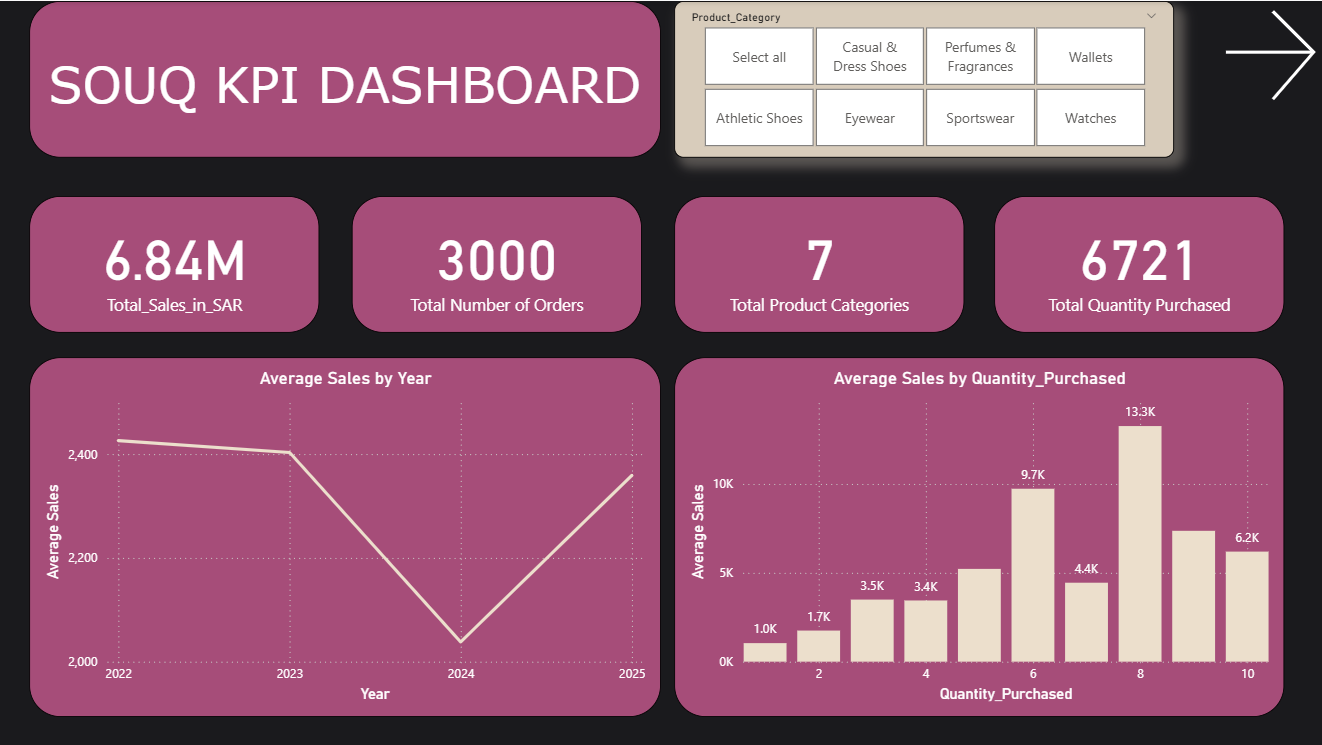

The page's visual inventory and layout, read from the dashboard file:
{"tool":"powerbi","page":{"name":"KPI Summary","canvas":[1280,720],"ordinal":0},"visuals":[{"type":"card","fields":{"Values":["_Measures.Total Number of Orders"]},"box":[341.4,188.7,280,131.8],"z":0},{"type":"card","fields":{"Values":["Sum(Orders.Total_Sales_in_SAR)"]},"box":[29.9,188.7,280,131.8],"z":1},{"type":"card","fields":{"Values":["_Measures.Total Product Categories"]},"box":[652.9,188.7,280,131.8],"z":2},{"type":"card","fields":{"Values":["_Measures.Total Quantity Purchased"]},"box":[961.4,188.7,280,131.8],"z":3},{"type":"textbox","box":[29.9,0,609.5,151.2],"z":4},{"type":"lineChart","fields":{"Category":["Orders.Order_Date.Variation.Date Hierarchy.Year","Orders.Order_Date.Variation.Date Hierarchy.Month","Orders.Order_Weekday"],"Y":["_Measures.Average Sales"]},"box":[29.9,344.4,609.5,347.4],"z":5},{"type":"columnChart","fields":{"Category":["Orders.Quantity_Purchased"],"Y":["_Measures.Average Sales"]},"box":[652.9,344.4,588.5,347.4],"z":6},{"type":"slicer","fields":{"Values":["Products.Product_Category"]},"box":[652.9,0,482.2,151.2],"z":7},{"type":"actionButton","box":[1175.5,0,104.8,104.8],"z":8}]}

Visuals, with their boxes in screenshot pixels (x1, y1, x2, y2), scaled from the page's 1280x720 canvas onto the 1322x745 screenshot:
card - _Measures.Total Number of Orders: [x1=353, y1=195, x2=642, y2=332]
card - Sum(Orders.Total_Sales_in_SAR): [x1=31, y1=195, x2=320, y2=332]
card - _Measures.Total Product Categories: [x1=674, y1=195, x2=964, y2=332]
card - _Measures.Total Quantity Purchased: [x1=993, y1=195, x2=1282, y2=332]
textbox: [x1=31, y1=0, x2=660, y2=156]
lineChart - Orders.Order_Date.Variation.Date Hierarchy.Year x Orders.Order_Date.Variation.Date Hierarchy.Month: [x1=31, y1=356, x2=660, y2=716]
columnChart - Orders.Quantity_Purchased x _Measures.Average Sales: [x1=674, y1=356, x2=1282, y2=716]
slicer - Products.Product_Category: [x1=674, y1=0, x2=1172, y2=156]
actionButton: [x1=1214, y1=0, x2=1321, y2=108]
